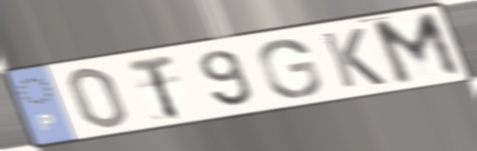0: (64, 66, 130, 131)
9: (196, 48, 256, 108)
G: (255, 37, 324, 99)
K: (318, 26, 390, 91)
M: (367, 9, 467, 88)
T: (124, 52, 183, 123)
